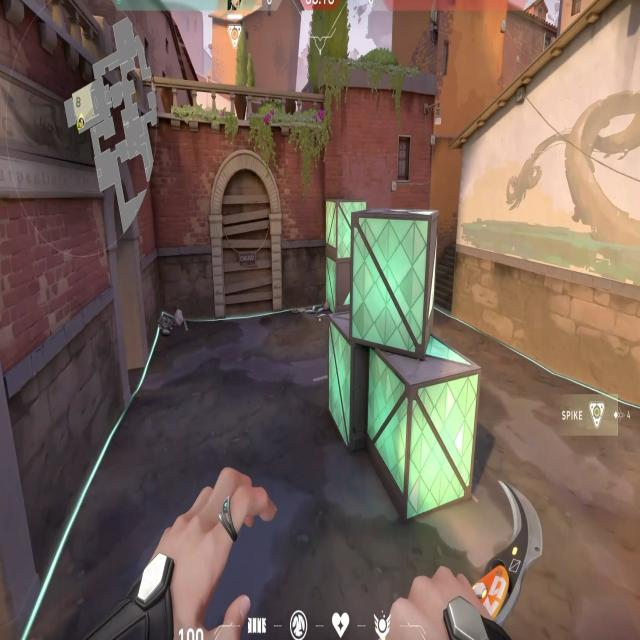B_Boathouse: (98, 139, 162, 416)
B_Site_Box: (318, 190, 486, 528)
